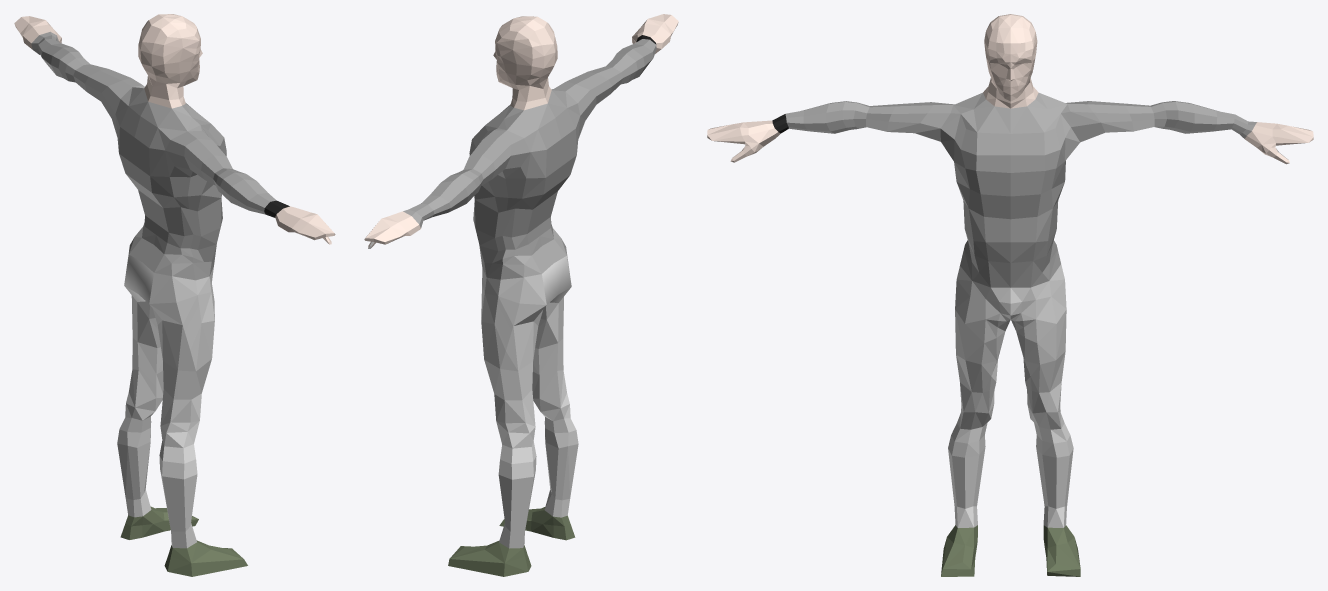
Rendered from uomoLowPolyBlender.fbx.
3 renders of one model, left to right at view 1: azimuth 30°, elevation 25°; view 2: azimuth 150°, elevation 25°; view 3: azimuth 270°, elevation 25°, orthographic.
Visible parts, largest first — view 1: Cube; view 2: Cube; view 3: Cube.
Part boxes in pixels (x1,y1,x2,y2): Cube: [14, 14, 335, 576]; Cube: [364, 14, 678, 576]; Cube: [707, 14, 1313, 576].
Bounding box in the file's own units: 48.04 × 297 × 304.
